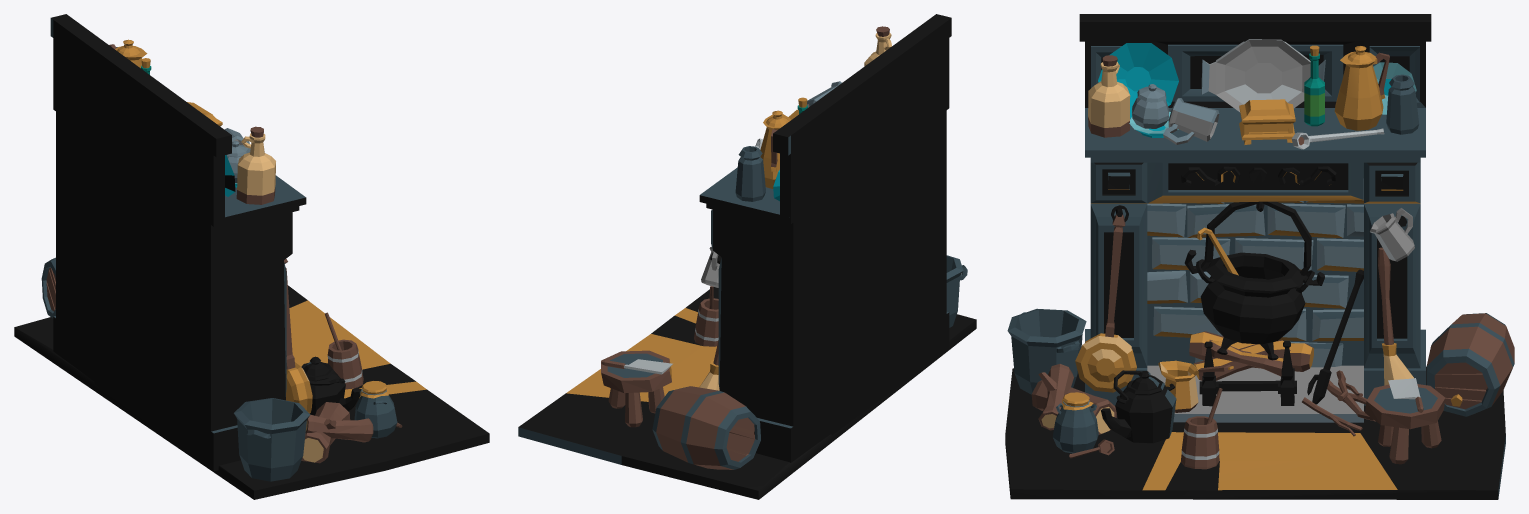
File: WitchKitchen.glb
3 renders of one model, left to right at view 1: azimuth 30°, elevation 25°; view 2: azimuth 150°, elevation 25°; view 3: azimuth 270°, elevation 25°, orthographic. The views are drawn at different scales.
Parts seen in each view (by area): view 1: node_MeshObject1930868736-PolyPaper19, node_MeshObject141119488-PolyPaper17, node_MeshObject-1792019456-PolyPaper17; view 2: node_MeshObject1930868736-PolyPaper19, node_MeshObject-1792019456-PolyPaper17, node_MeshObject141119488-PolyPaper17; view 3: node_MeshObject141119488-PolyPaper17, node_MeshObject-1792019456-PolyPaper17, node_MeshObject1930868736-PolyPaper19.
Part boxes in pixels (bbox=[...]): node_MeshObject1930868736-PolyPaper19: bbox=[41, 14, 402, 471]; node_MeshObject141119488-PolyPaper17: bbox=[14, 18, 489, 499]; node_MeshObject-1792019456-PolyPaper17: bbox=[53, 103, 397, 438]; node_MeshObject1930868736-PolyPaper19: bbox=[652, 14, 951, 469]; node_MeshObject-1792019456-PolyPaper17: bbox=[601, 174, 819, 462]; node_MeshObject141119488-PolyPaper17: bbox=[518, 26, 976, 499]; node_MeshObject141119488-PolyPaper17: bbox=[1005, 39, 1505, 499]; node_MeshObject-1792019456-PolyPaper17: bbox=[1053, 108, 1445, 453]; node_MeshObject1930868736-PolyPaper19: bbox=[1063, 14, 1514, 458].
Size of the model in its own units: 1.11 by 1.48 by 1.88.
